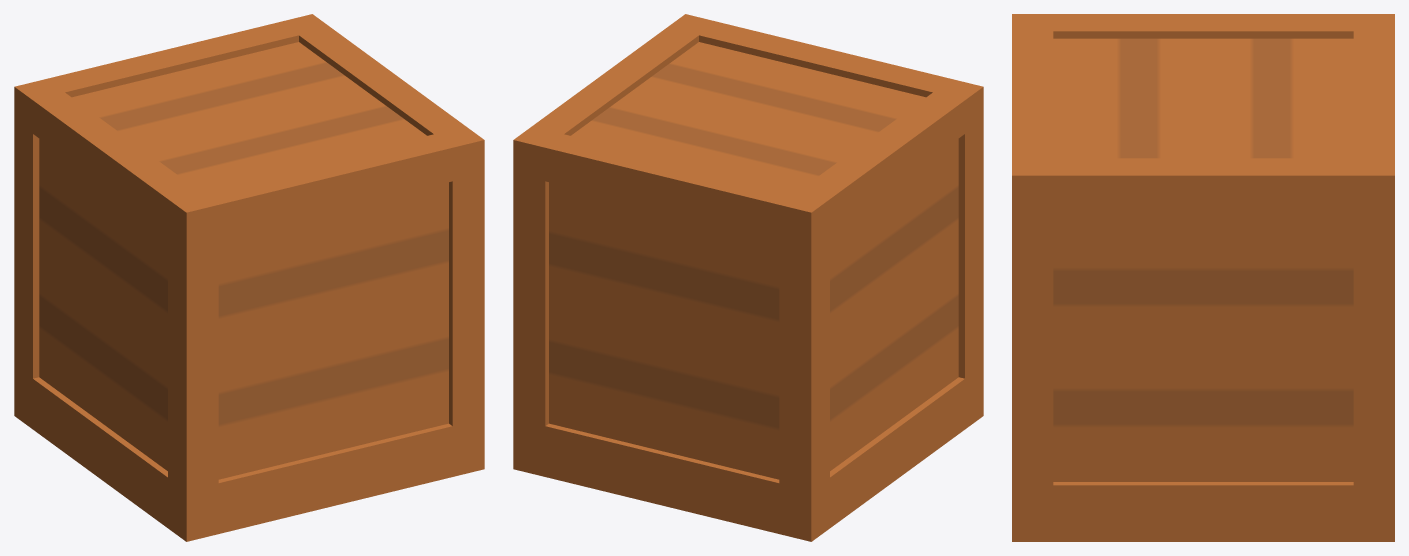
File: Crate_G.fbx
3 renders of one model, left to right at view 1: azimuth 30°, elevation 25°; view 2: azimuth 150°, elevation 25°; view 3: azimuth 270°, elevation 25°, orthographic. The views are drawn at different scales.
Parts seen in each view (by area): view 1: Crate_01, Crate_03; view 2: Crate_01, Crate_03; view 3: Crate_01, Crate_03.
Part boxes in pixels (<box>): Crate_01: <box>14,14,484,524</box>; Crate_03: <box>14,399,484,541</box>; Crate_01: <box>513,14,983,524</box>; Crate_03: <box>513,397,983,541</box>; Crate_01: <box>1012,14,1394,505</box>; Crate_03: <box>1012,505,1394,541</box>.
Size of the model in its own units: 107 by 113 by 107.
